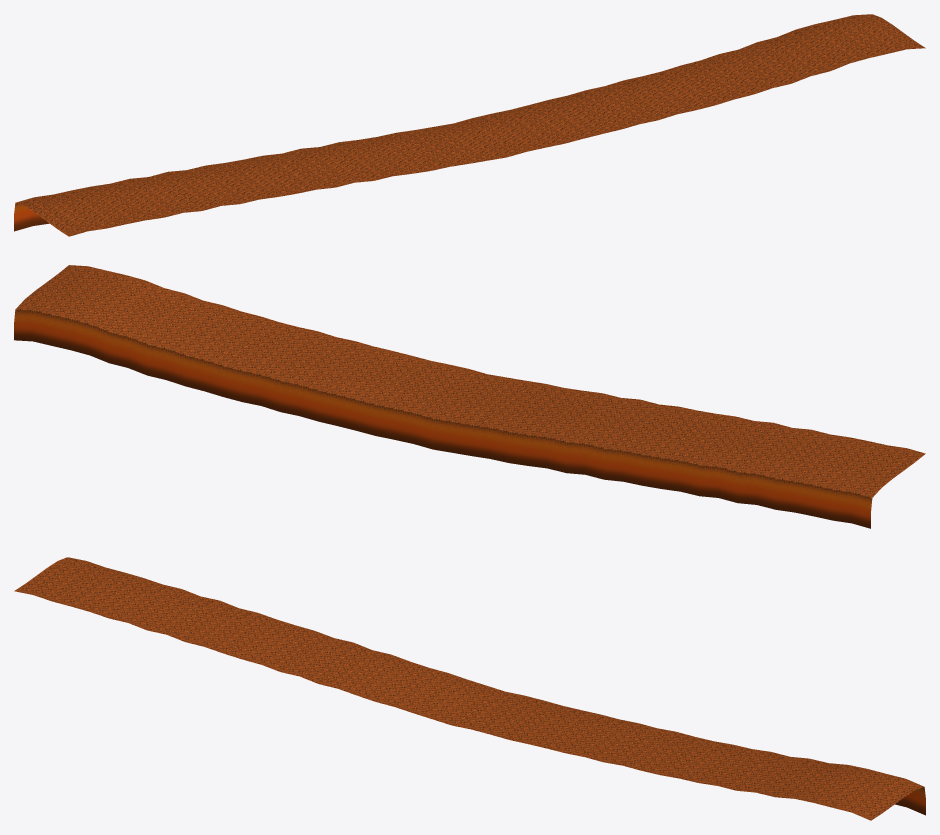
File: ondasLava.fbx
3 views of the same model, one above another, from view 1: azimuth 30°, elevation 25°; view 2: azimuth 150°, elevation 25°; view 3: azimuth 330°, elevation 25° (orthographic).
Parts seen in each view (by area): view 1: Box003; view 2: Box003; view 3: Box003.
Boxes of the visible parts, left/top/right/bottom form: Box003: left=14, top=14, right=925, bottom=236; Box003: left=14, top=265, right=925, bottom=528; Box003: left=14, top=557, right=925, bottom=820.
Bounding box in the file's own units: 3429 × 244 × 381.
Materials: 1 (1 with a texture image).
